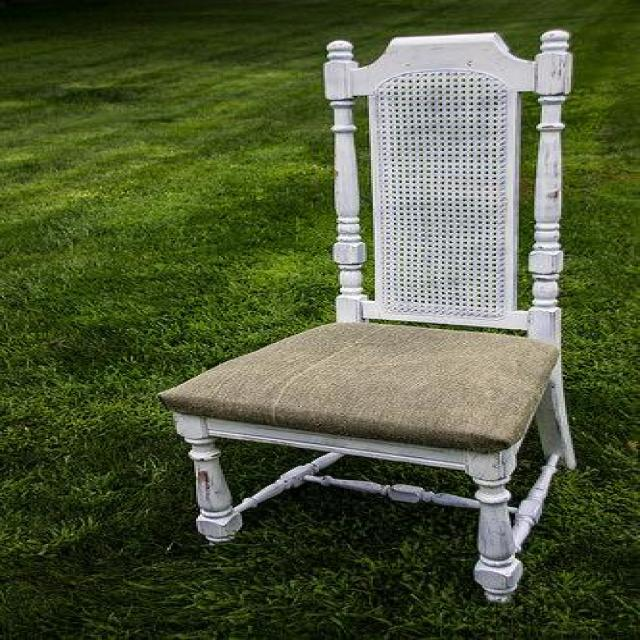chair: (158, 24, 578, 609)
